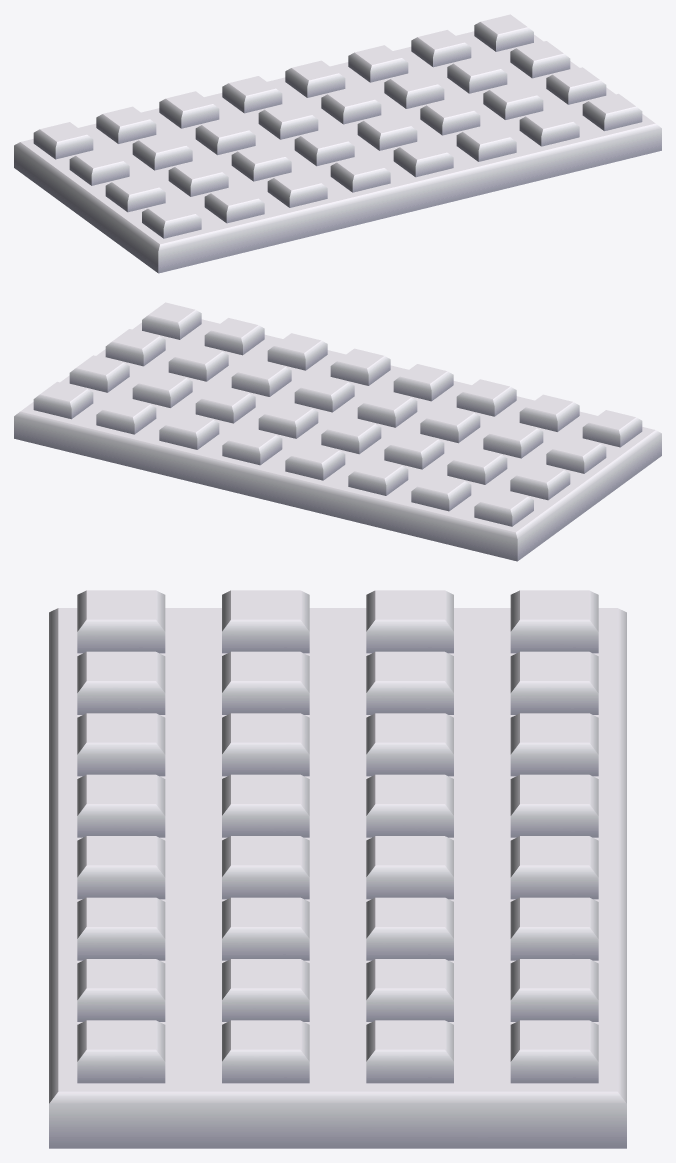
Rendered from square-hq-plate-4x8.glb.
The picture shows the model from 3 angles, top to bottom: view 1: azimuth 30°, elevation 25°; view 2: azimuth 150°, elevation 25°; view 3: azimuth 270°, elevation 25°; orthographic projection. The views are drawn at different scales.
Visible parts, largest first — view 1: square-hq-plate-4x8; view 2: square-hq-plate-4x8; view 3: square-hq-plate-4x8.
Part boxes in pixels (x1,y1,x2,y2): square-hq-plate-4x8: (14, 14, 661, 273); square-hq-plate-4x8: (14, 302, 661, 561); square-hq-plate-4x8: (49, 590, 626, 1148).
Bounding box in the file's own units: 0.636 × 0.05 × 0.316.
Materials: 1 (1 with a texture image).
